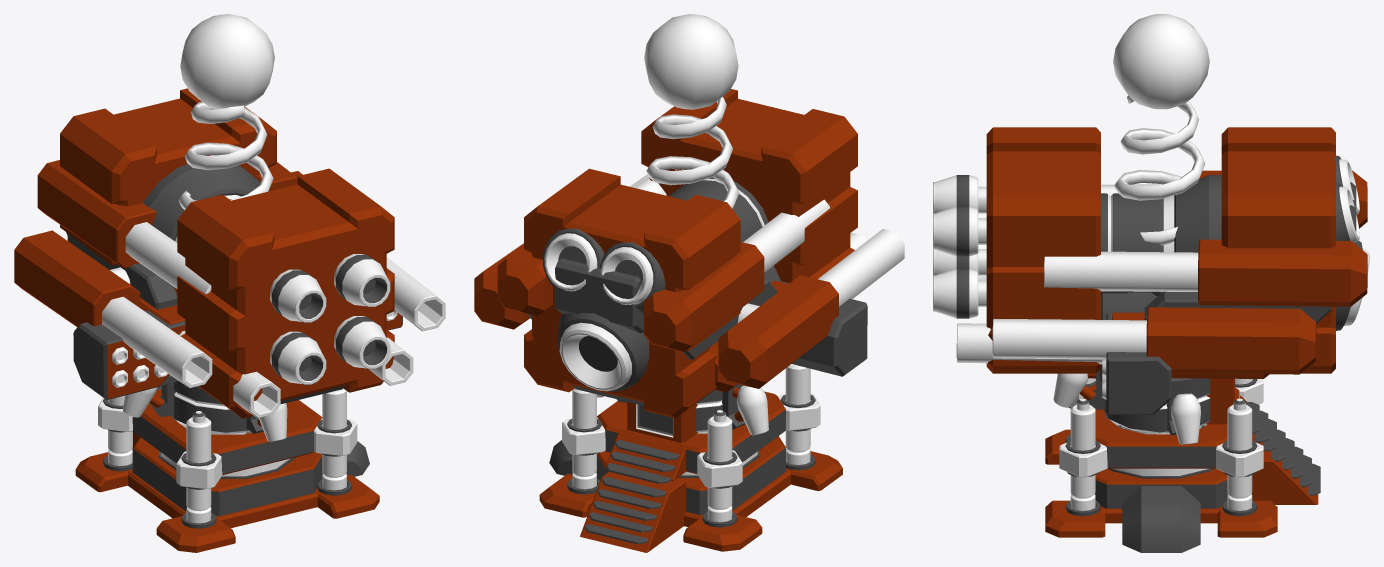
The model's file is Tower (All weapons).fbx.
3 renders of one model, left to right at view 1: azimuth 30°, elevation 25°; view 2: azimuth 150°, elevation 25°; view 3: azimuth 270°, elevation 25°, orthographic.
Visible parts, largest first — view 1: Plasma_Unit_DNT, Cannons_DNT, Tower_Base_DNT, Tesla_Unit_DNT, Tower_Swivel_DNT, Missile_Rack_02_DNT, Tower_Pylons_DNT; view 2: Plasma_Unit_DNT, Cannons_DNT, Tower_Base_DNT, Tesla_Unit_DNT, Tower_Swivel_DNT, Tower_Pylons_DNT, Cannon_Unit_DNT, Missile_Rack_02_DNT; view 3: Plasma_Unit_DNT, Cannons_DNT, Tower_Base_DNT, Tesla_Unit_DNT, Tower_Swivel_DNT, Tower_Pylons_DNT, Missile_Rack_01_DNT, Missile_Unit_DNT.
Part boxes in pixels (box(x1,y1,x2,y2)): Plasma_Unit_DNT: box(60, 88, 394, 441); Cannons_DNT: box(14, 160, 445, 417); Tower_Base_DNT: box(75, 432, 379, 552); Tesla_Unit_DNT: box(178, 14, 274, 209); Tower_Swivel_DNT: box(98, 386, 357, 489); Missile_Rack_02_DNT: box(73, 310, 185, 399); Tower_Pylons_DNT: box(108, 388, 346, 523); Plasma_Unit_DNT: box(524, 89, 857, 443); Cannons_DNT: box(474, 174, 904, 392); Tower_Base_DNT: box(539, 436, 842, 552); Tesla_Unit_DNT: box(644, 14, 739, 208); Tower_Swivel_DNT: box(562, 391, 820, 488); Tower_Pylons_DNT: box(572, 364, 810, 522); Cannon_Unit_DNT: box(555, 258, 759, 333); Missile_Rack_02_DNT: box(776, 280, 867, 376); Plasma_Unit_DNT: box(933, 127, 1369, 444); Cannons_DNT: box(956, 170, 1367, 378); Tower_Base_DNT: box(1045, 429, 1320, 552); Tesla_Unit_DNT: box(1113, 14, 1209, 291); Tower_Swivel_DNT: box(1059, 378, 1276, 477); Tower_Pylons_DNT: box(1070, 378, 1252, 510); Missile_Rack_01_DNT: box(1102, 313, 1171, 414); Missile_Unit_DNT: box(1099, 291, 1157, 381).
Bounding box in the file's own units: 4.42 × 6.63 × 5.58.
